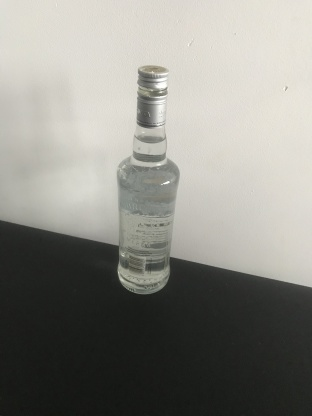nakretka: (135, 63, 170, 129)
